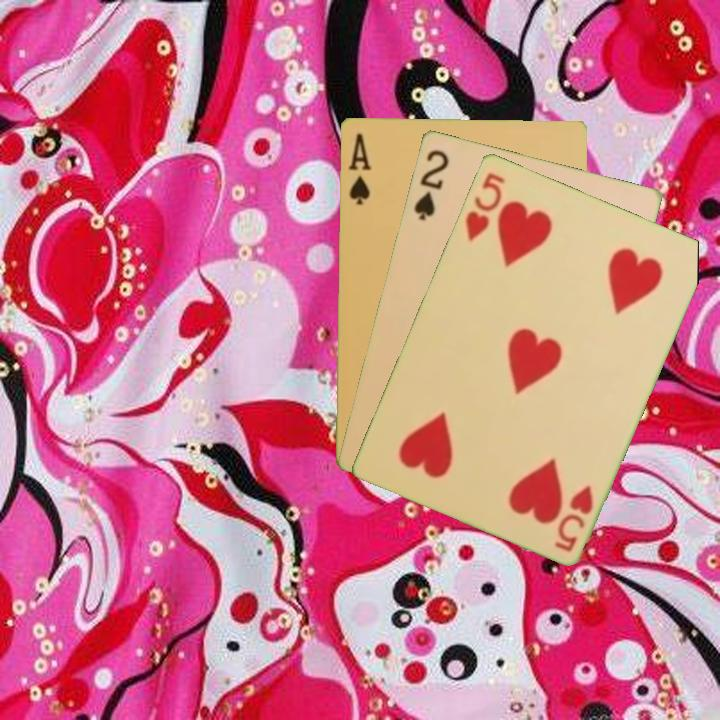2s: (410, 145, 452, 223)
5h: (461, 168, 508, 243), (550, 480, 596, 554)
As: (345, 129, 374, 208)
